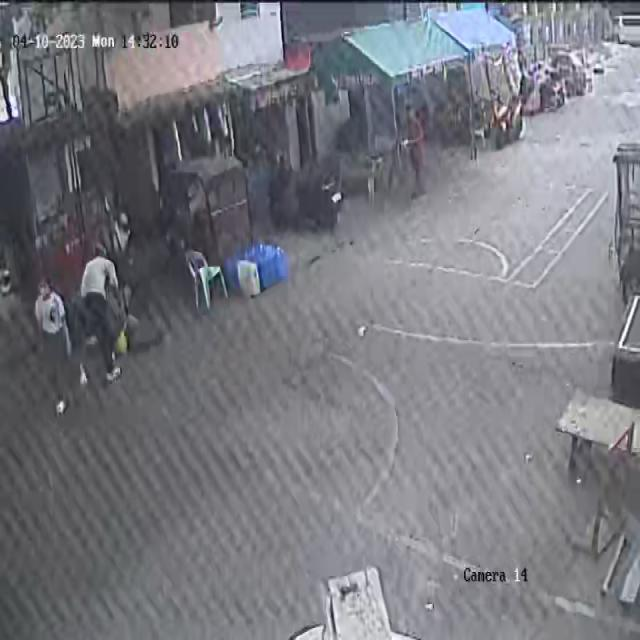garbage_dumping: (114, 318, 129, 357)
